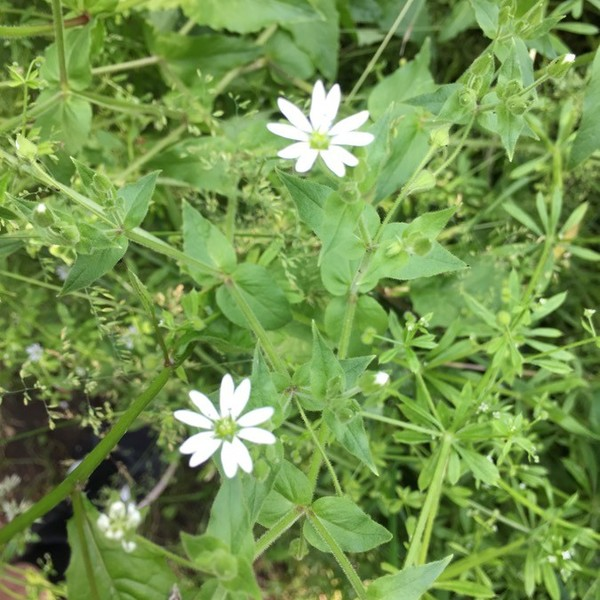obstacle: (165, 83, 509, 484)
